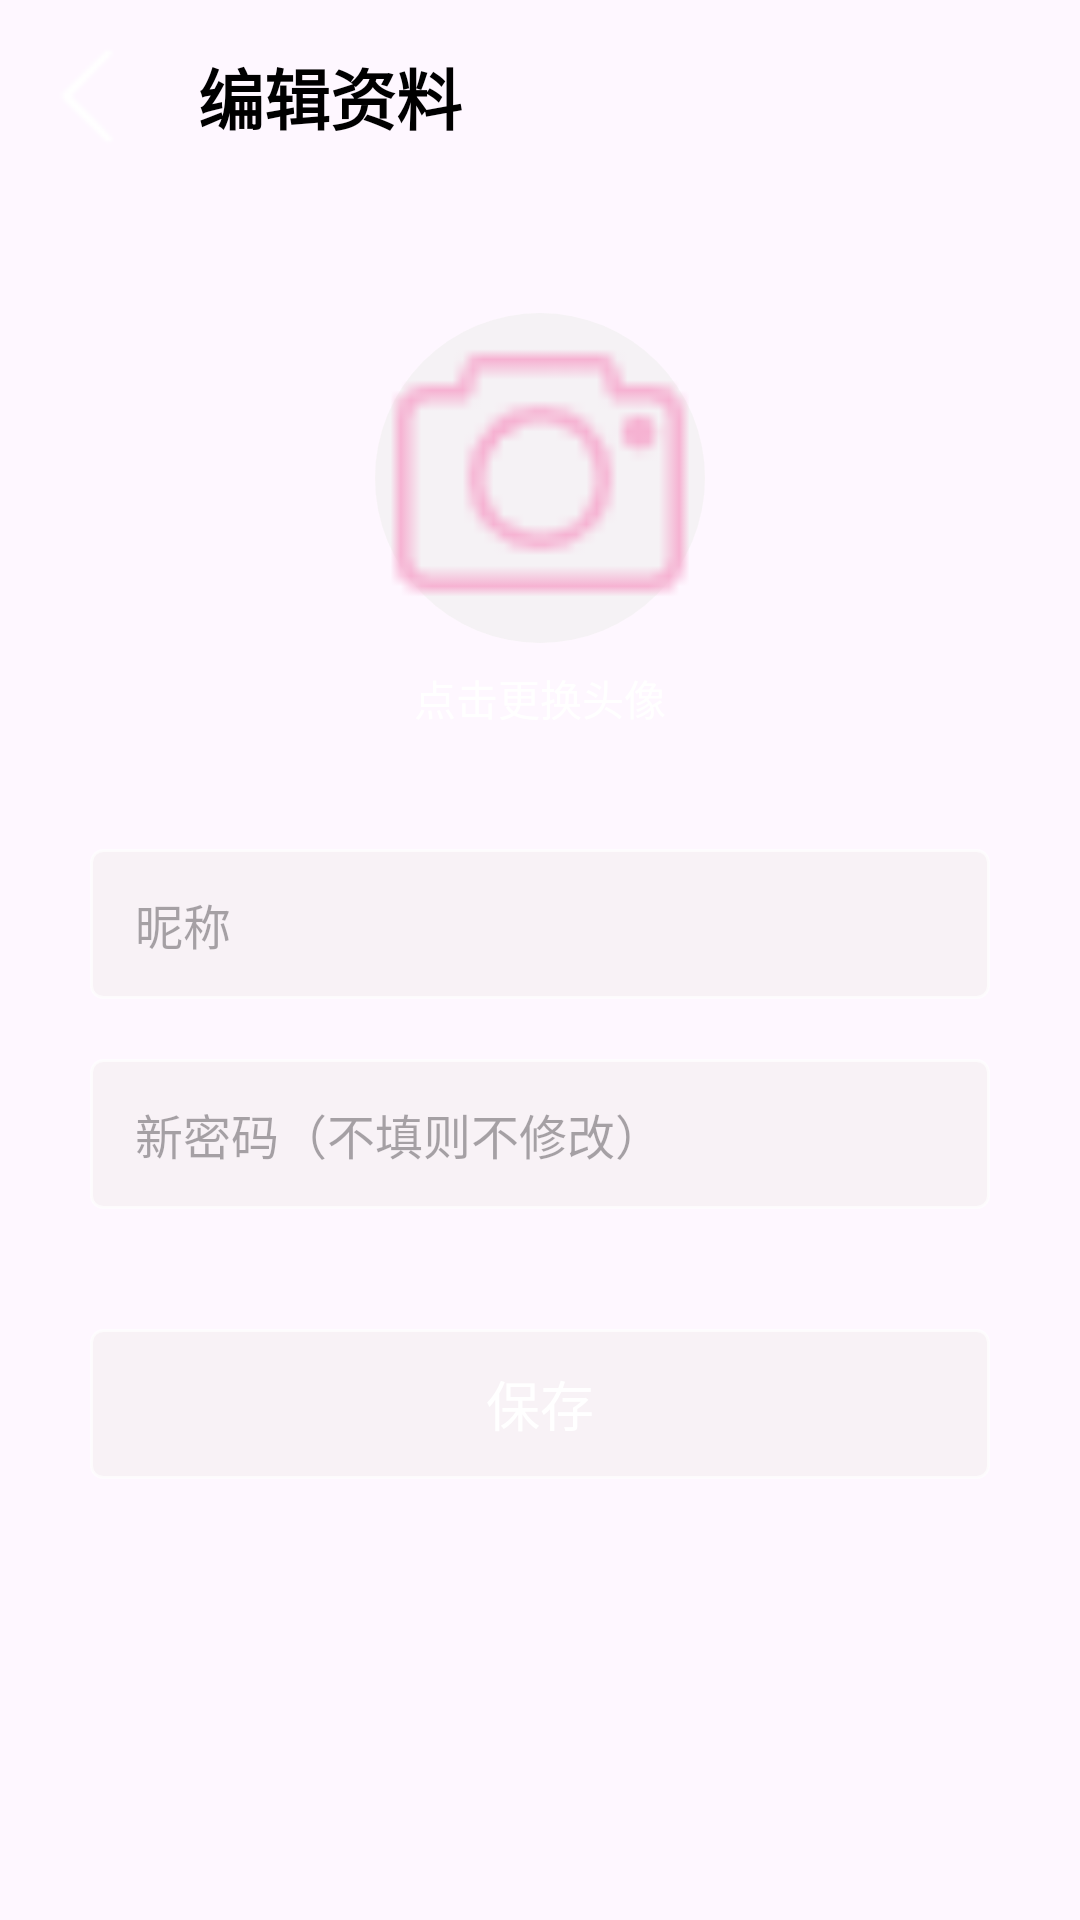

Where to tap for icons on this 1080px×1920px app screen, as (x=x, y=y):
photo: (x=540, y=478)
